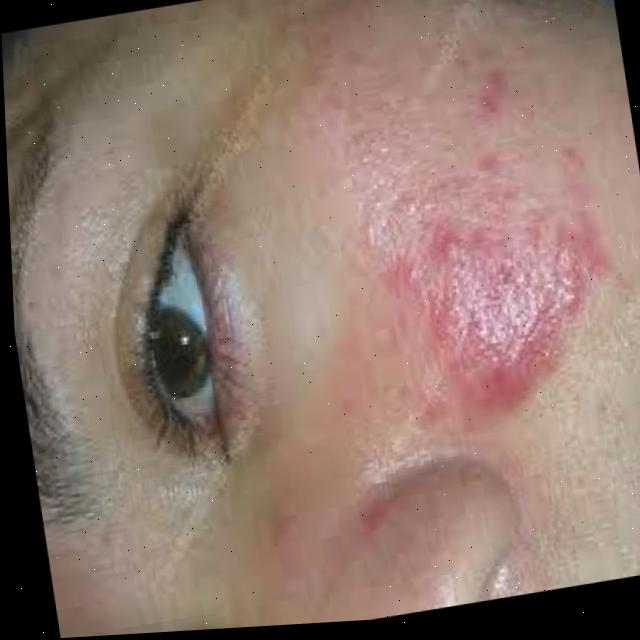Rosacea: (340, 130, 630, 445)
